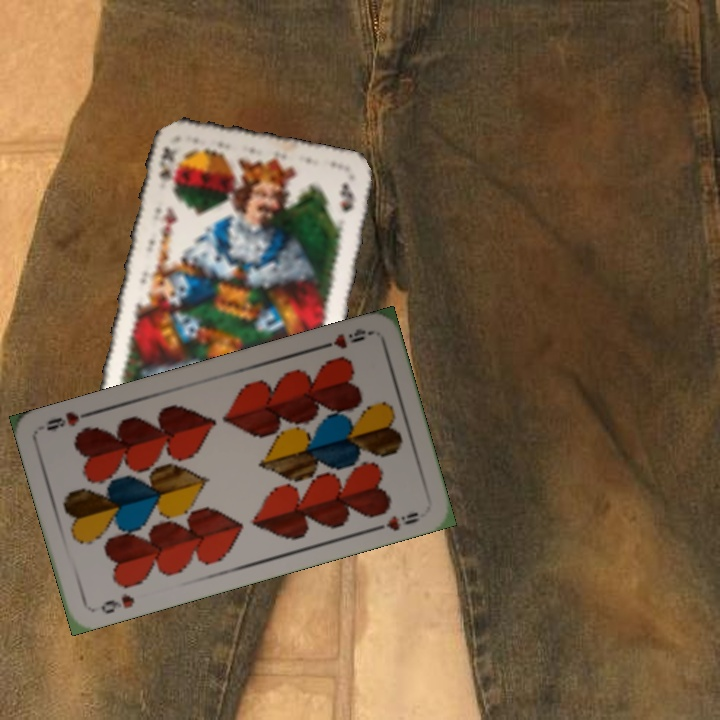H9: (316, 324, 374, 352), (97, 590, 137, 617)
SK: (155, 143, 179, 195)
